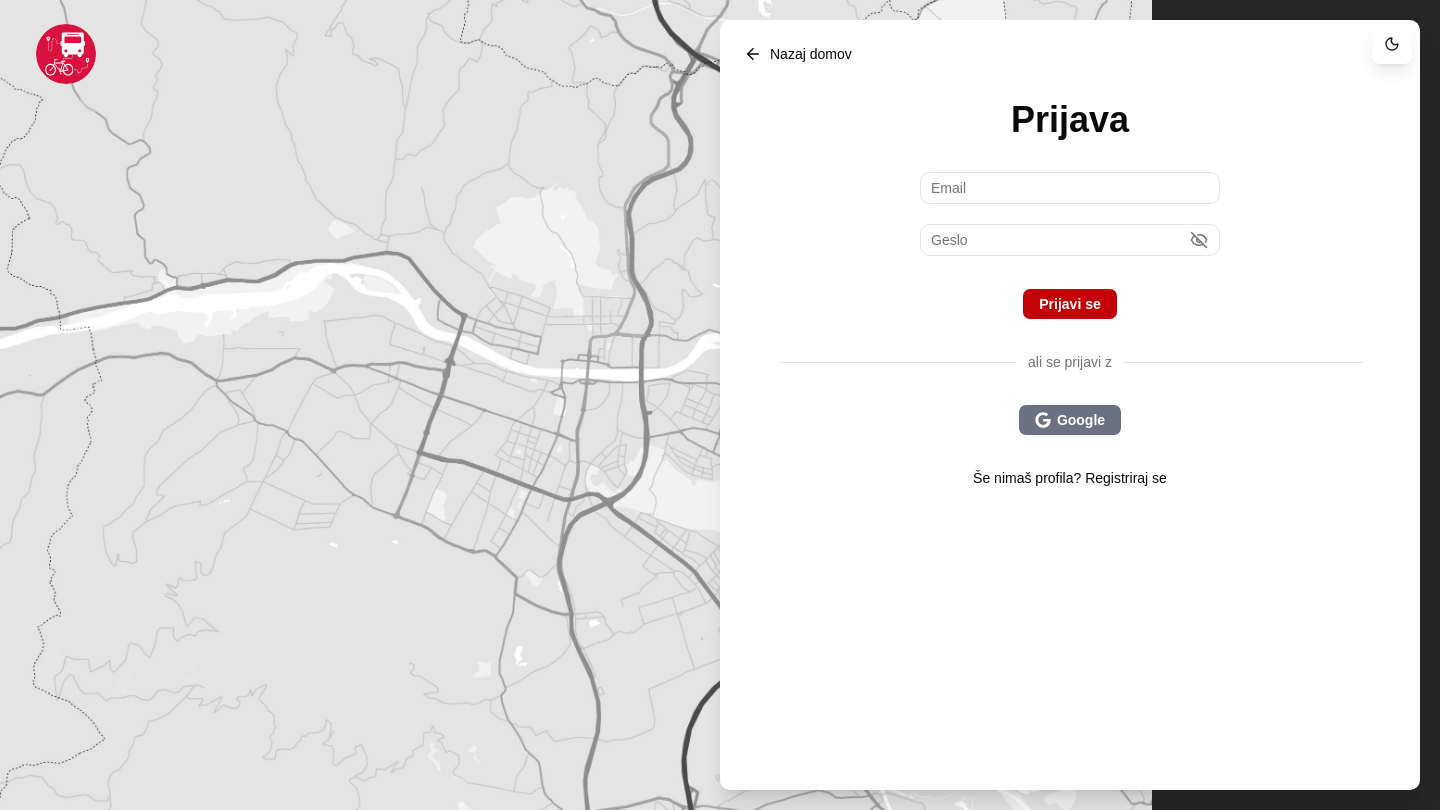
Test case: integracijski Login in Register › Login prikaže slovensko Firebase napako
The image size is (1440, 810).
Type "test@example.com" into the field with placeholder "Email". click: (1070, 188)
box: [920, 172, 1220, 204]
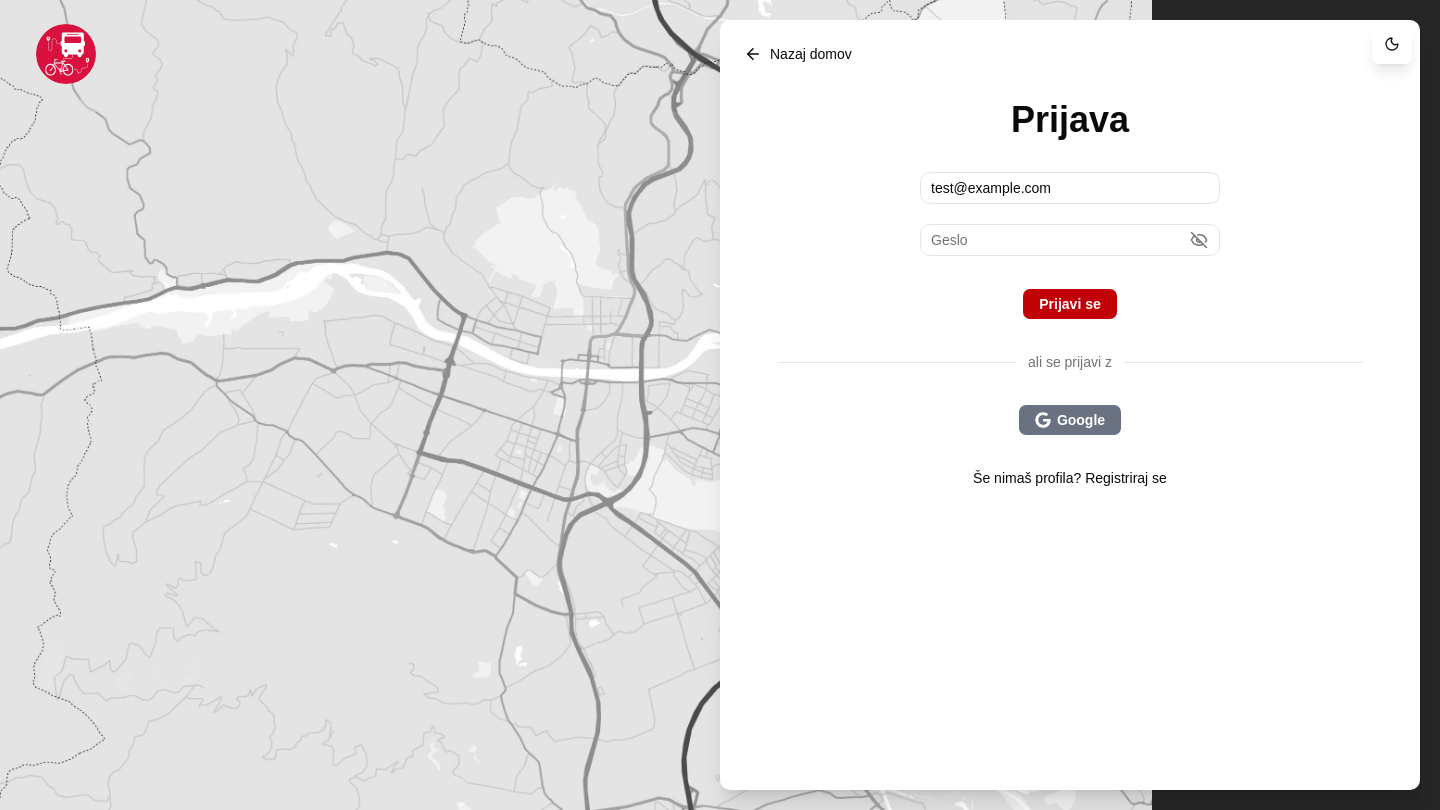
Type "wrong" into the password field with placeholder "Geslo". click: (1070, 240)
box: [920, 224, 1220, 256]
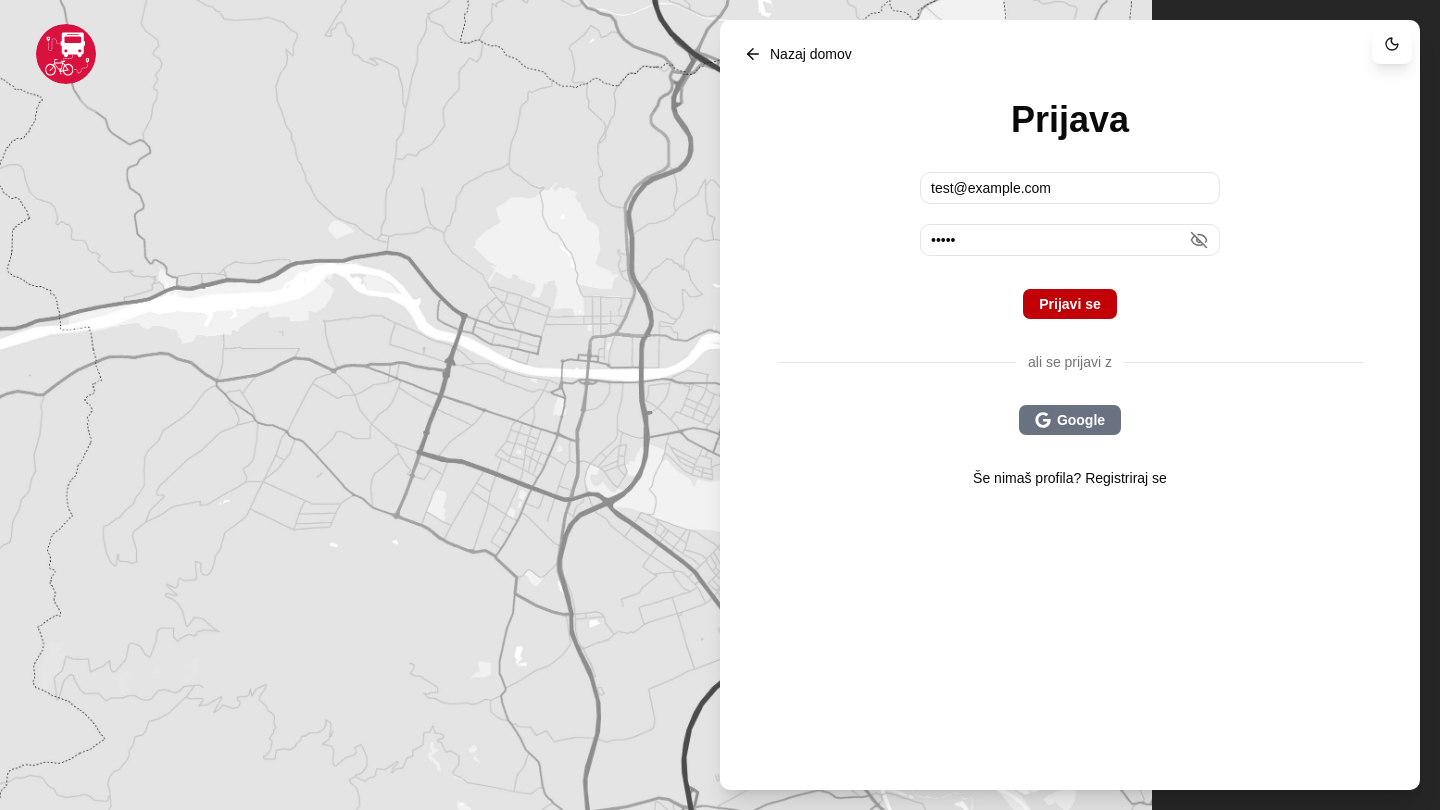
Click the button "Prijavi se". click: (1070, 304)
box: [1022, 288, 1118, 320]
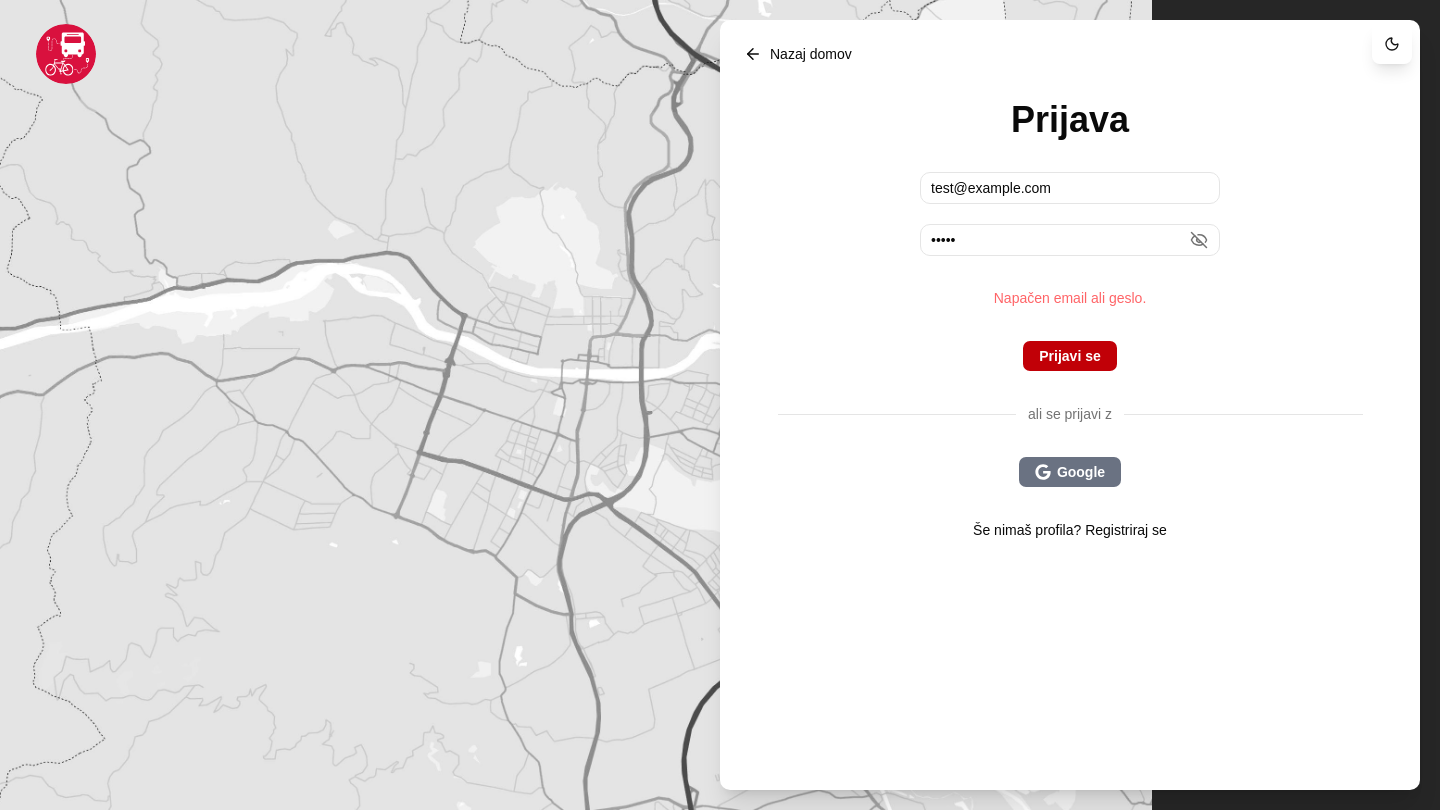
Now the text "Napačen email ali geslo." is shown, box [994, 290, 1146, 306]
